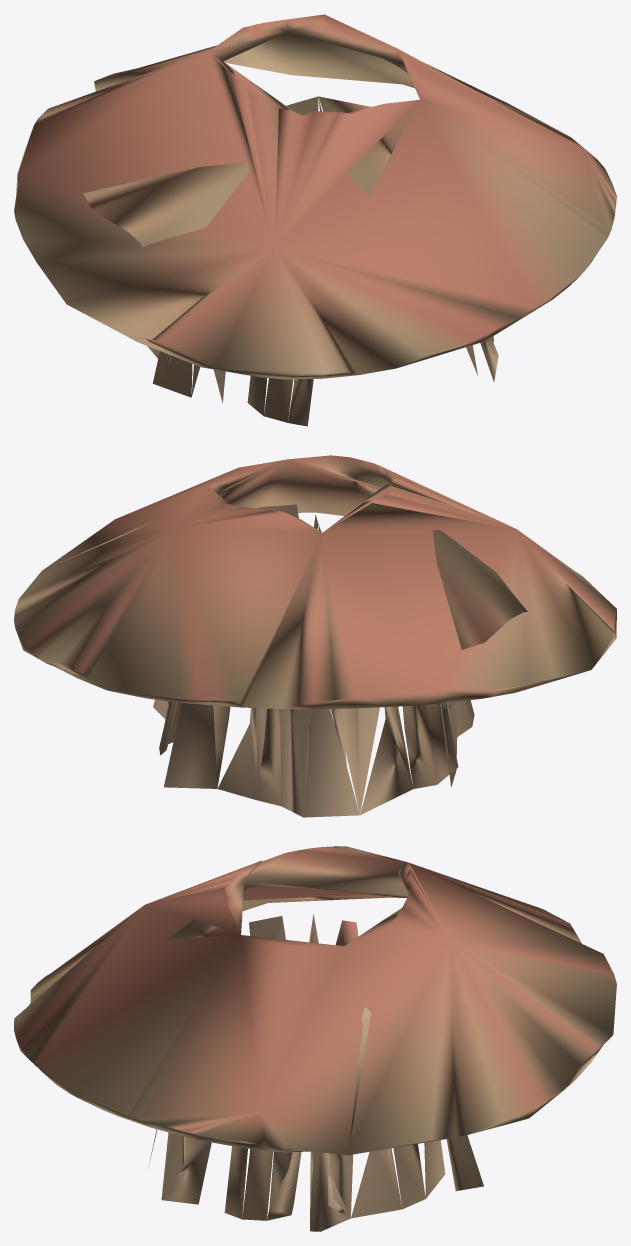
The model's file is bohio_redondo_lejos.glb.
The picture shows the model from 3 angles, top to bottom: view 1: azimuth 30°, elevation 25°; view 2: azimuth 150°, elevation 25°; view 3: azimuth 270°, elevation 25°; orthographic projection. The views are drawn at different scales.
Parts seen in each view (by area): view 1: bohio_redondo_lejos; view 2: bohio_redondo_lejos; view 3: bohio_redondo_lejos.
Boxes of the visible parts, x1=… form: bohio_redondo_lejos: x1=14, y1=14, x2=616, y2=426; bohio_redondo_lejos: x1=14, y1=455, x2=616, y2=817; bohio_redondo_lejos: x1=14, y1=846, x2=616, y2=1231.
Bounding box in the file's own units: 6.38 × 3.33 × 6.36.
